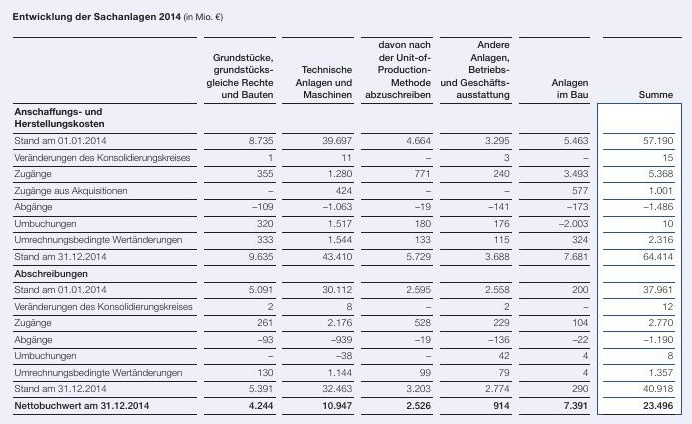table: (0, 0, 692, 424)
